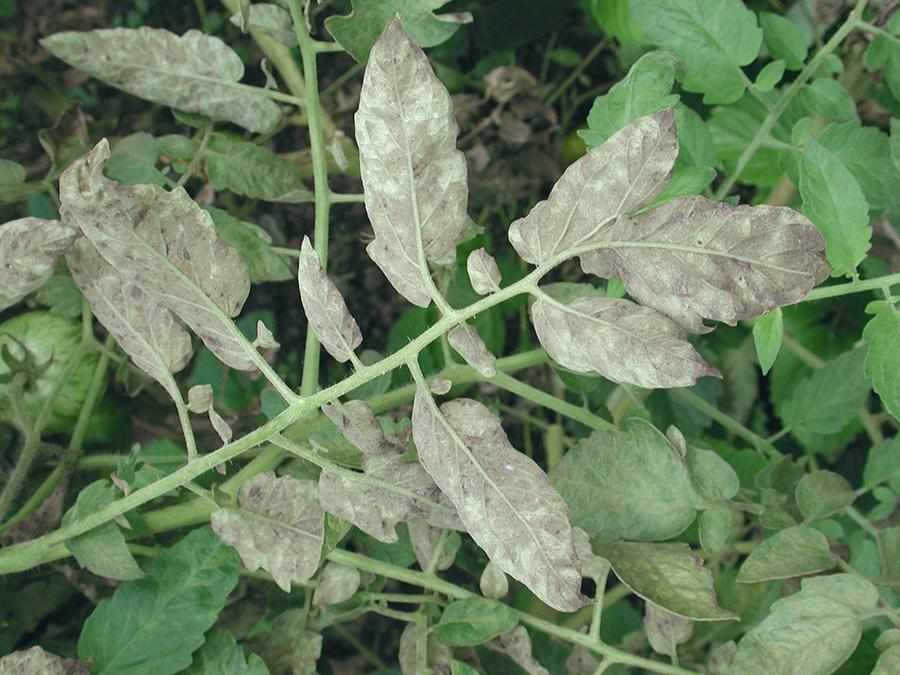Tomato mold leaf: (76, 535, 238, 669), (551, 415, 725, 534), (730, 572, 874, 674), (734, 500, 861, 588)
